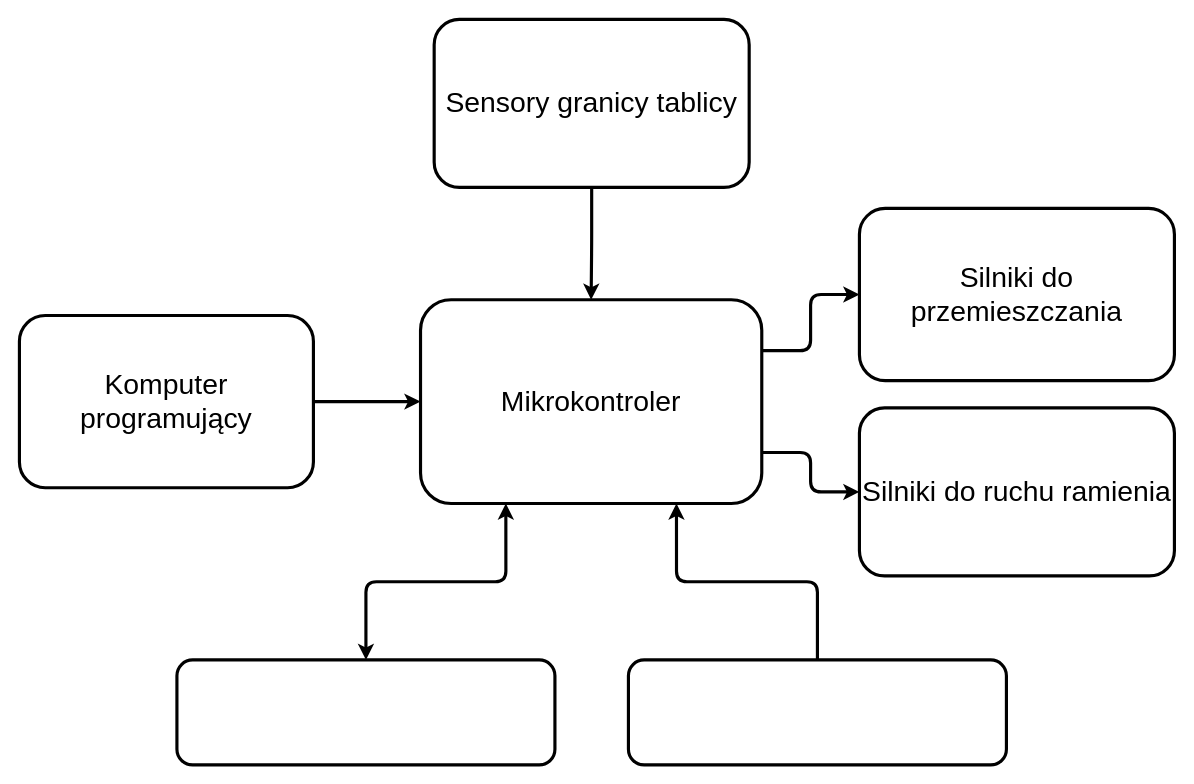
This 1194x784 diagram has some shape labels left out. Each missing label, with the centre of its shape:
"Akcelerometr i żyroskop" belongs at [816,712].
"Pamięć danych" belongs at [365,712].
